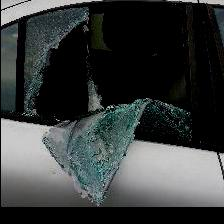glass_shatter: (11, 0, 202, 141)
